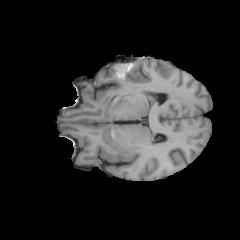glioma: (114, 58, 148, 93)
